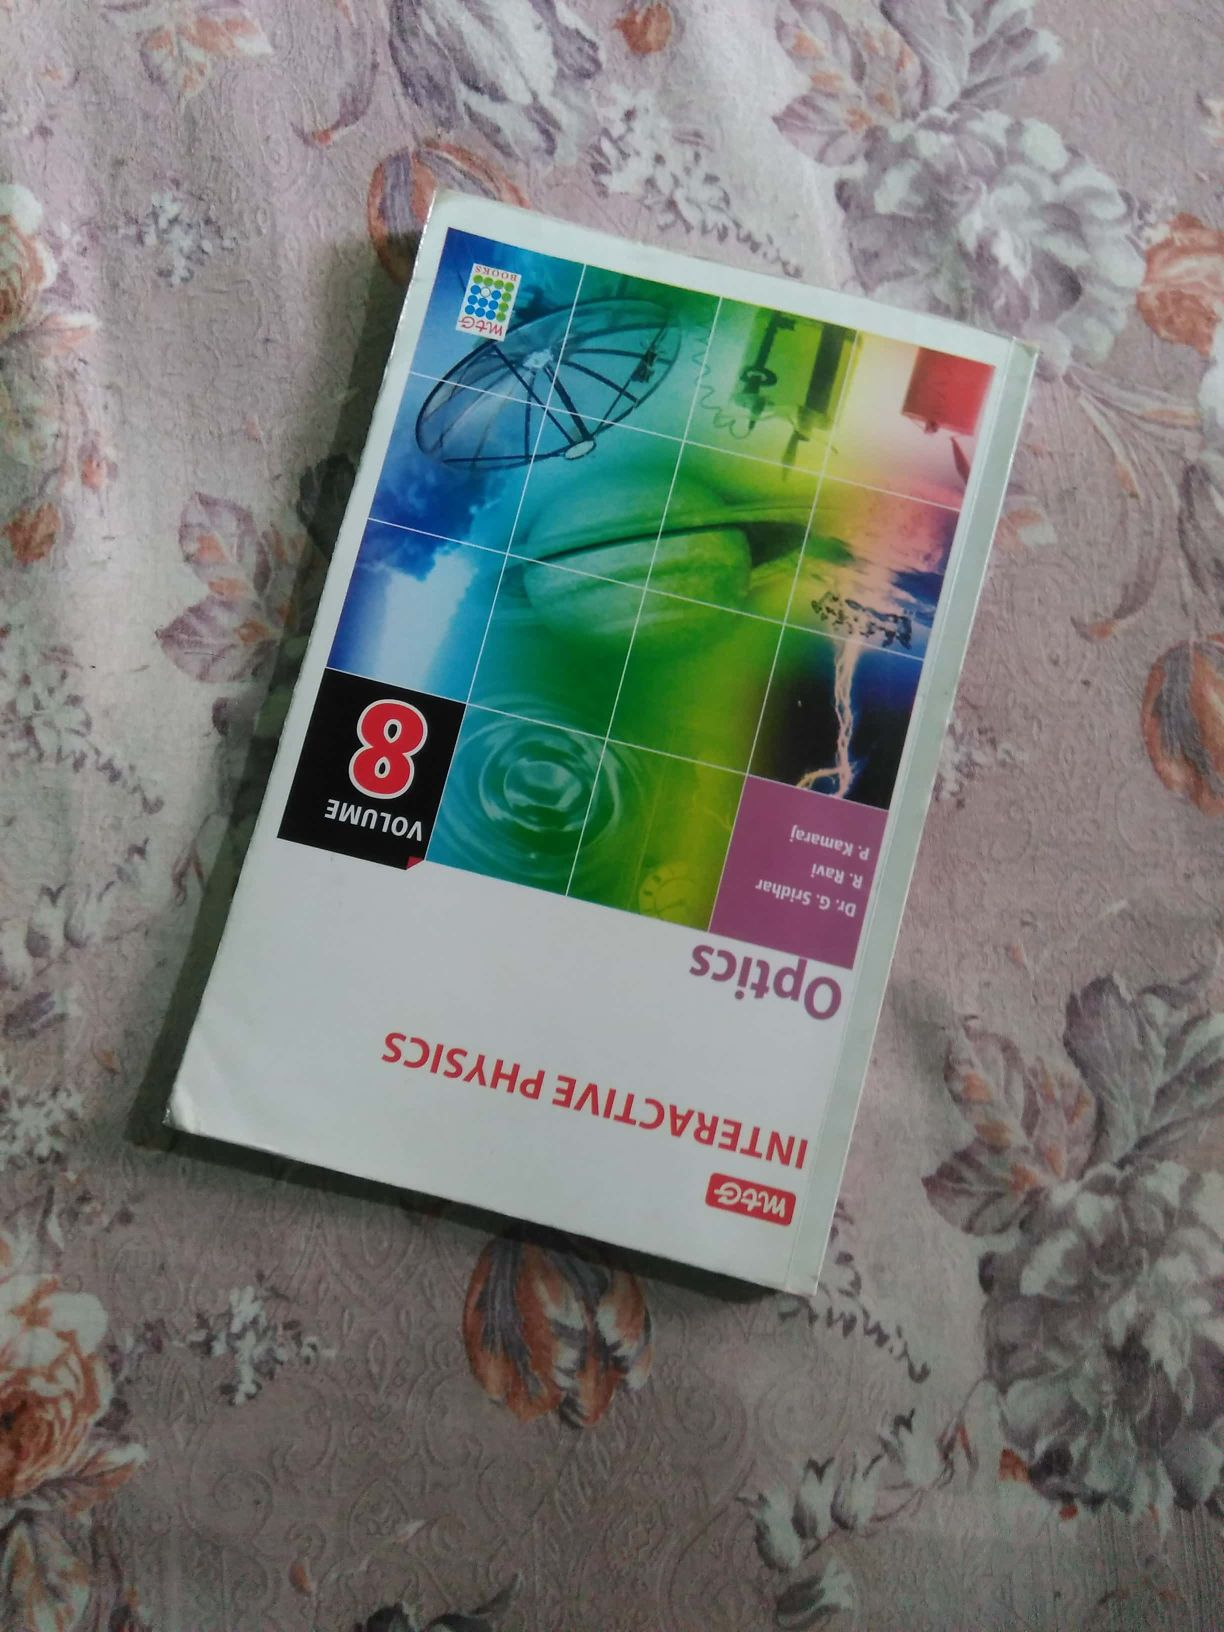optics: (180, 185, 1002, 1333)
